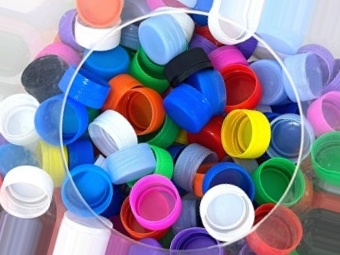plastic: (136, 184, 177, 225)
